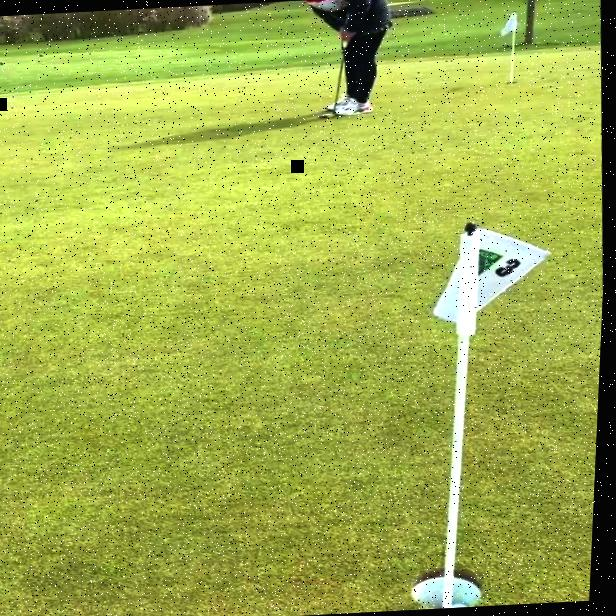ClubHead: (319, 112, 336, 118)
